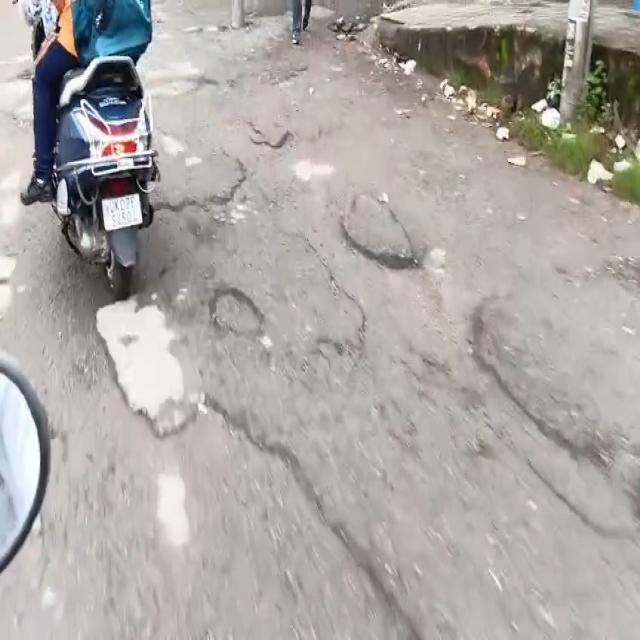road-pothole: (28, 386, 414, 639), (327, 237, 634, 524), (153, 72, 354, 238), (207, 284, 264, 336)
